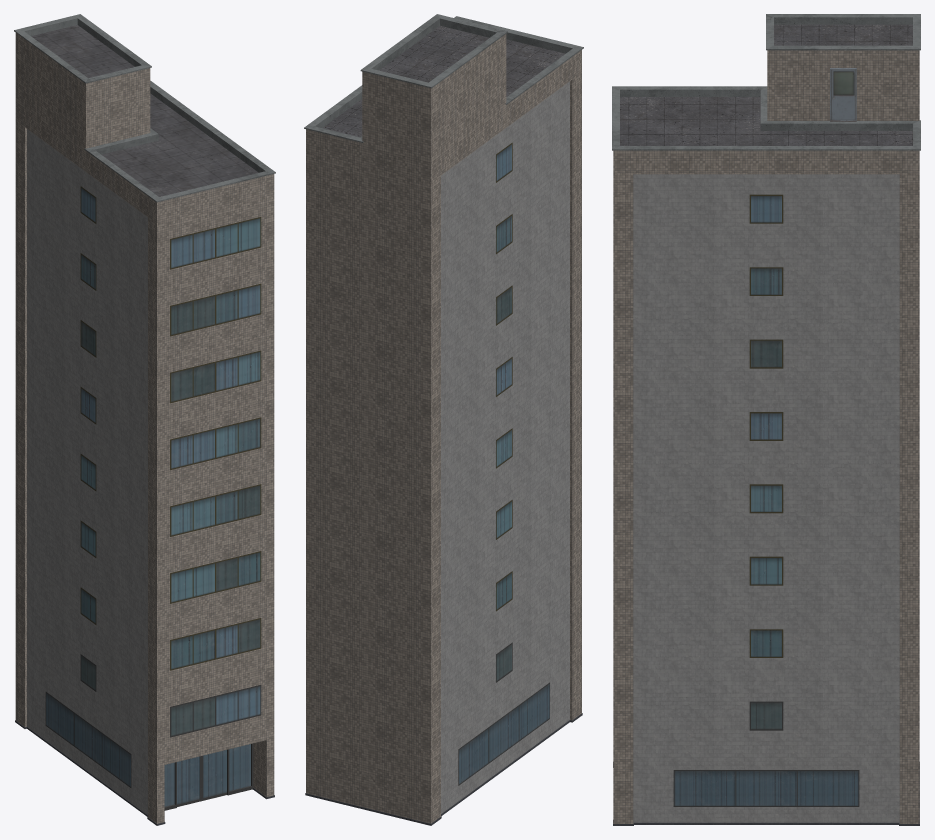
The model's file is jctBld12_6A_low.fbx.
The picture shows the model from 3 angles, left to right: view 1: azimuth 30°, elevation 25°; view 2: azimuth 150°, elevation 25°; view 3: azimuth 270°, elevation 25°; orthographic projection. The views are drawn at different scales.
Visible parts, largest first — view 1: jctBld12_6A_low; view 2: jctBld12_6A_low; view 3: jctBld12_6A_low.
Boxes of the visible parts, box(x1,y1,x2,y2) form: jctBld12_6A_low: box(14, 14, 275, 825); jctBld12_6A_low: box(304, 14, 583, 825); jctBld12_6A_low: box(612, 14, 920, 825).
Bounding box in the file's own units: 560 × 3105 × 1160.
